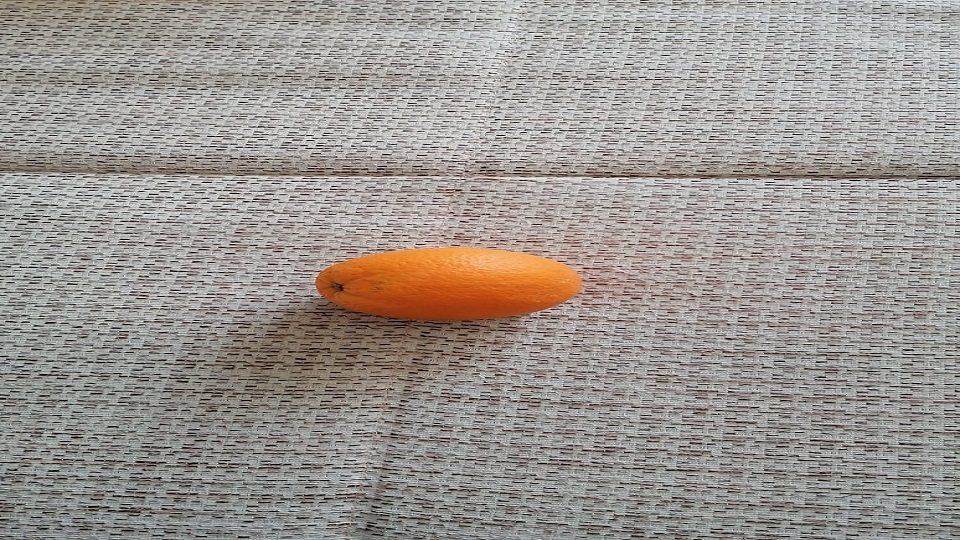portakal: (314, 246, 583, 323)
